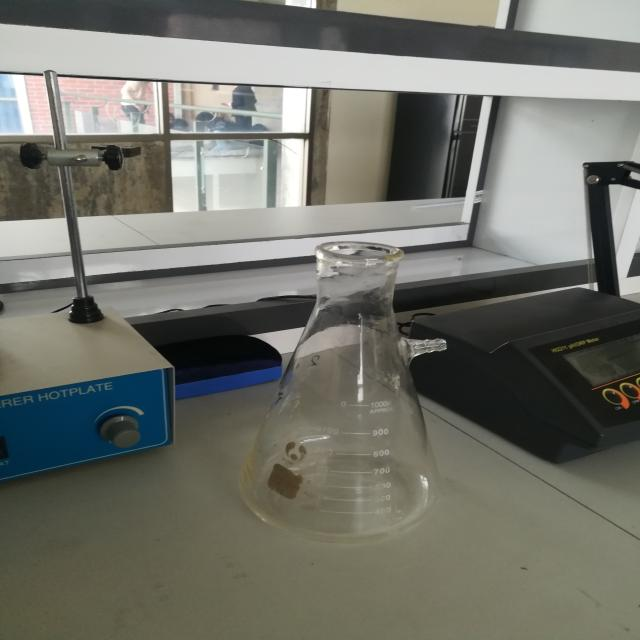Conical_Flask: (220, 216, 483, 562)
